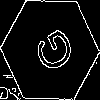G: (25, 25, 77, 81)
